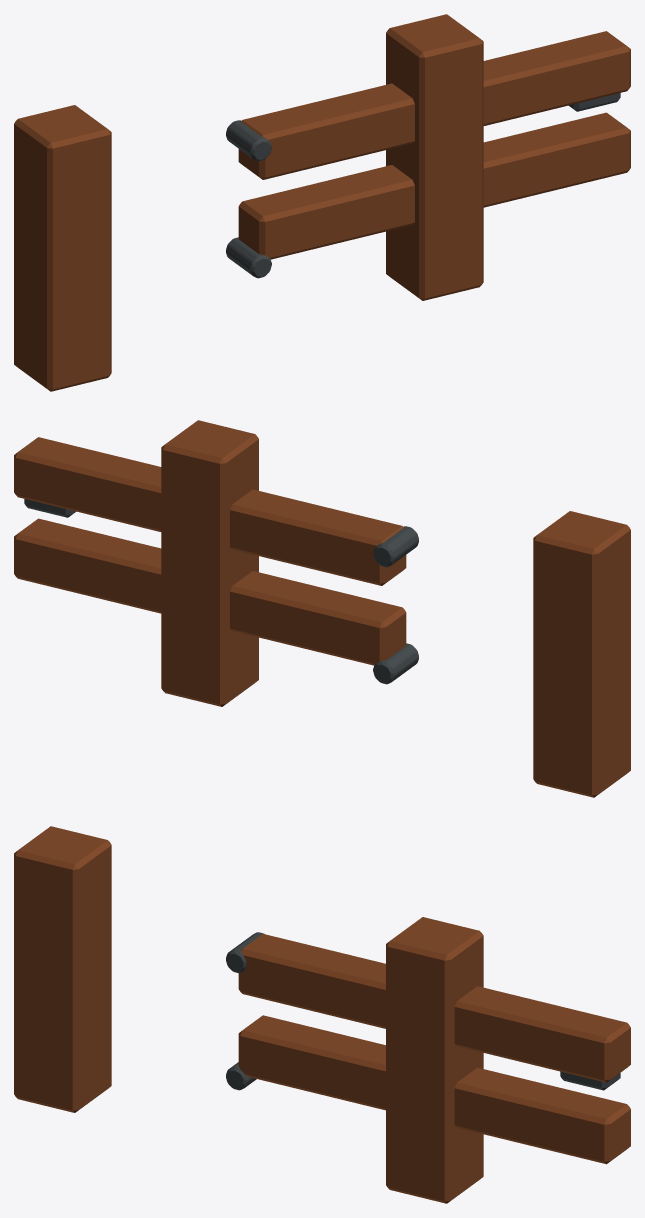
Rendered from FenceGate.glb.
3 renders of one model, top to bottom at view 1: azimuth 30°, elevation 25°; view 2: azimuth 150°, elevation 25°; view 3: azimuth 330°, elevation 25°, orthographic.
Parts seen in each view (by area): view 1: FenceGate_Posts, FenceGate_Leaf; view 2: FenceGate_Posts, FenceGate_Leaf; view 3: FenceGate_Posts, FenceGate_Leaf.
Part boxes in pixels (<box>): FenceGate_Posts: <box>14,14,483,391</box>; FenceGate_Leaf: <box>226,31,630,278</box>; FenceGate_Posts: <box>161,420,630,797</box>; FenceGate_Leaf: <box>14,437,418,684</box>; FenceGate_Posts: <box>14,826,483,1203</box>; FenceGate_Leaf: <box>226,932,630,1164</box>.
Bounding box in the file's own units: 1.37 × 0.55 × 0.15.
